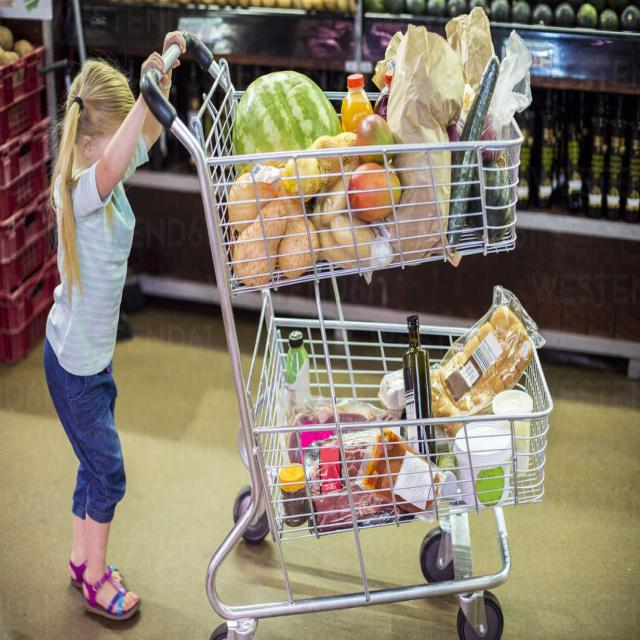Person: (43, 31, 189, 624)
